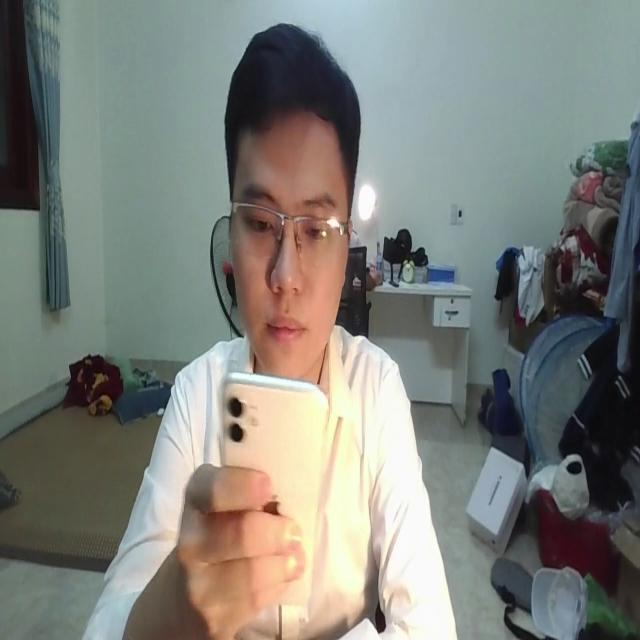phone: (214, 362, 327, 614)
student: (82, 15, 460, 640)
